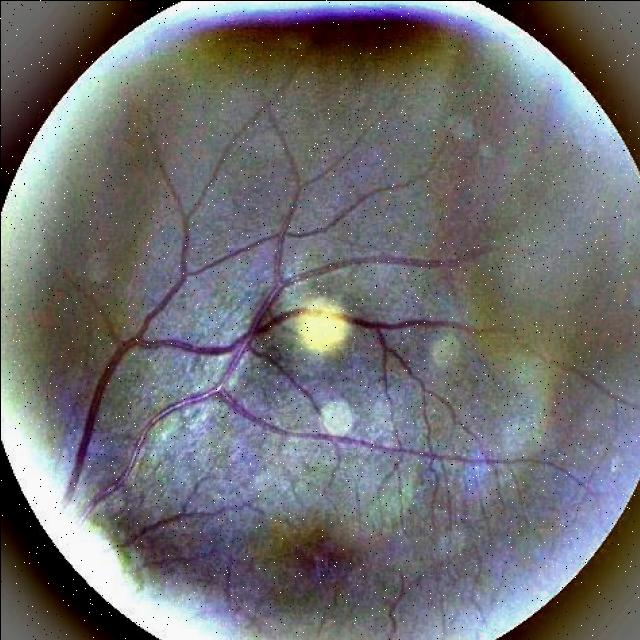Macula: (293, 530, 357, 574)
Nerves: (85, 118, 557, 502), (45, 174, 525, 504)
